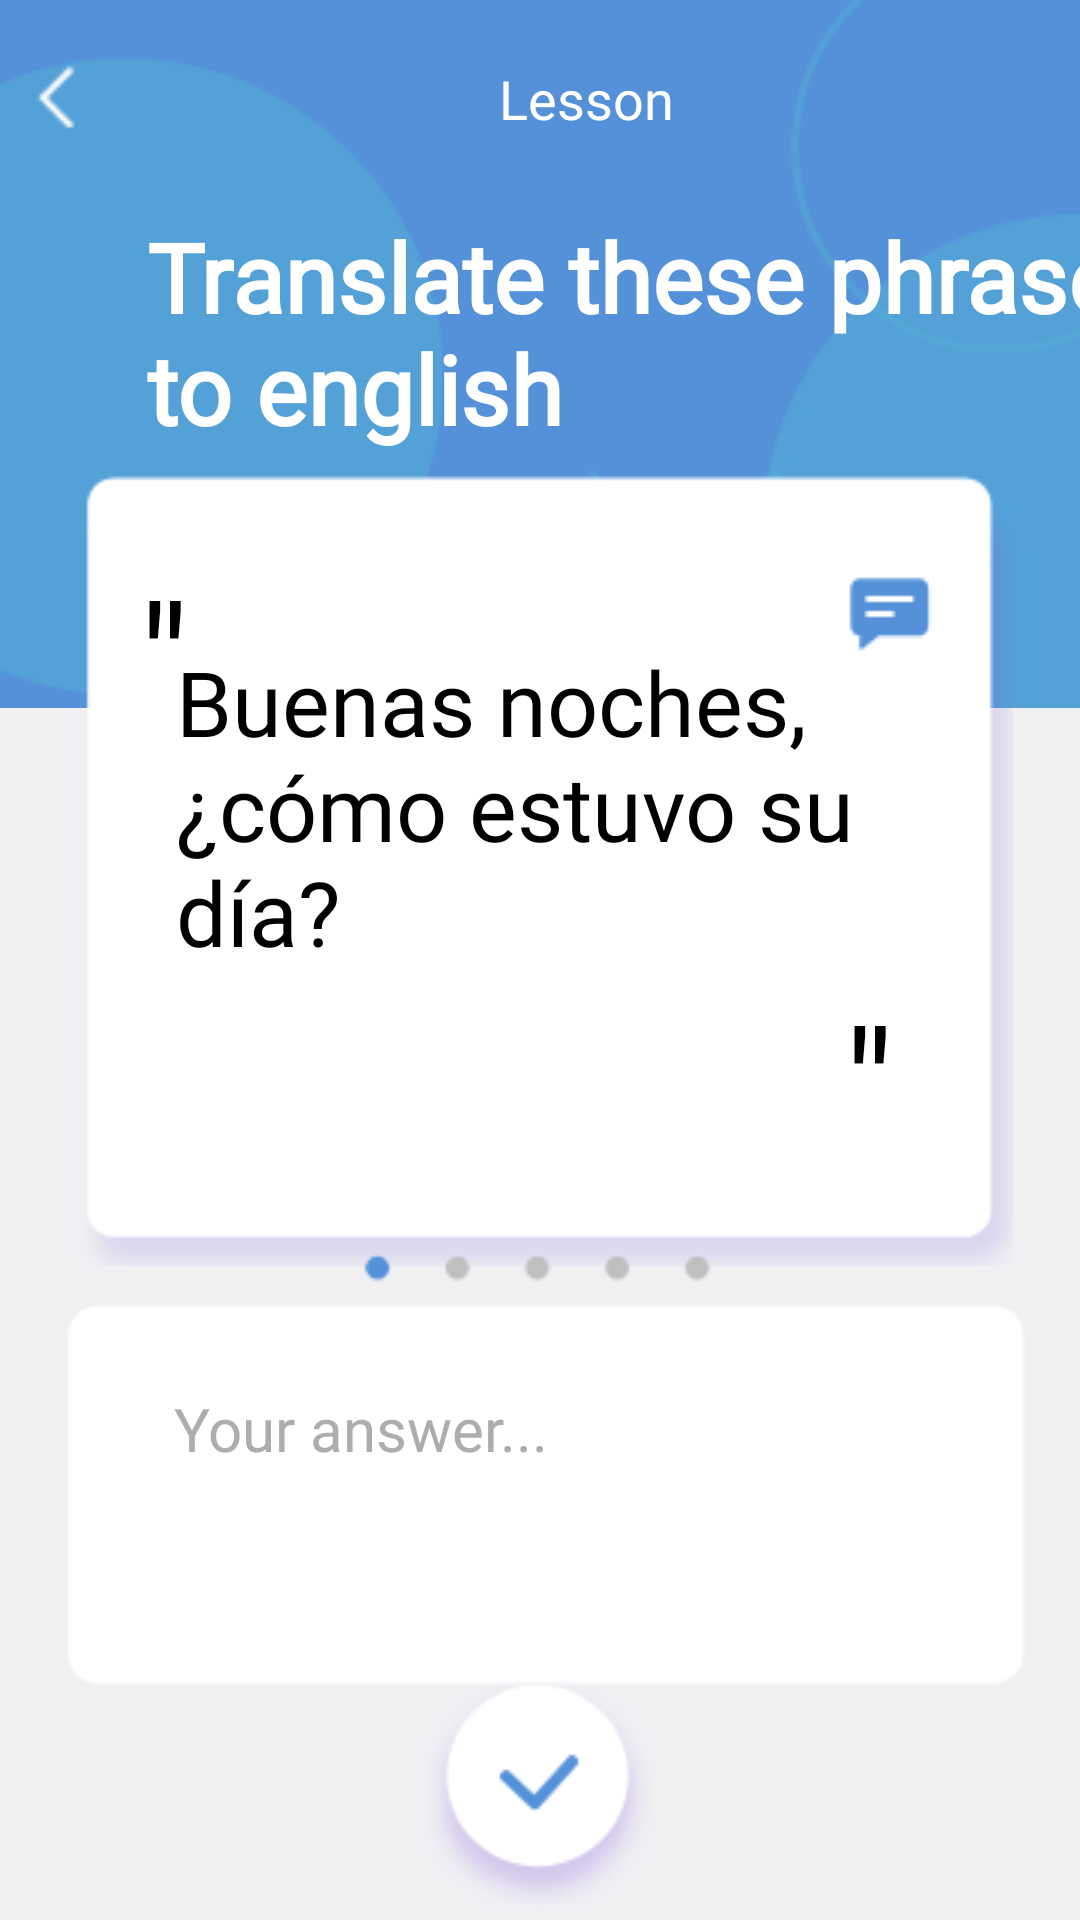

Screen size 1080×1920. Icon name, then its box in pixels as rect(x1, y1, x2, y2):
msje: rect(849, 577, 930, 651)
